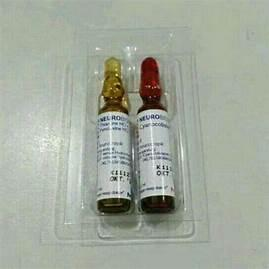Syringe: (131, 53, 178, 220), (94, 51, 134, 223)
